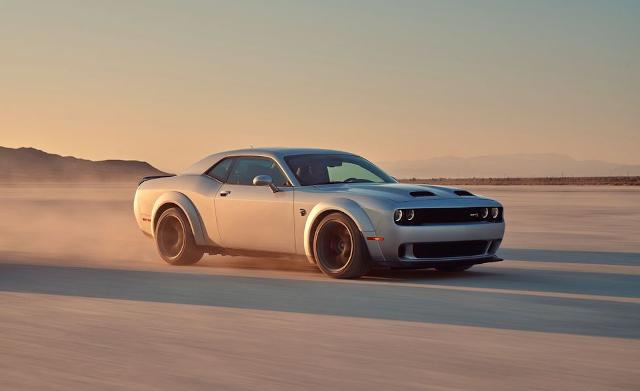dodge: (134, 147, 506, 280)
